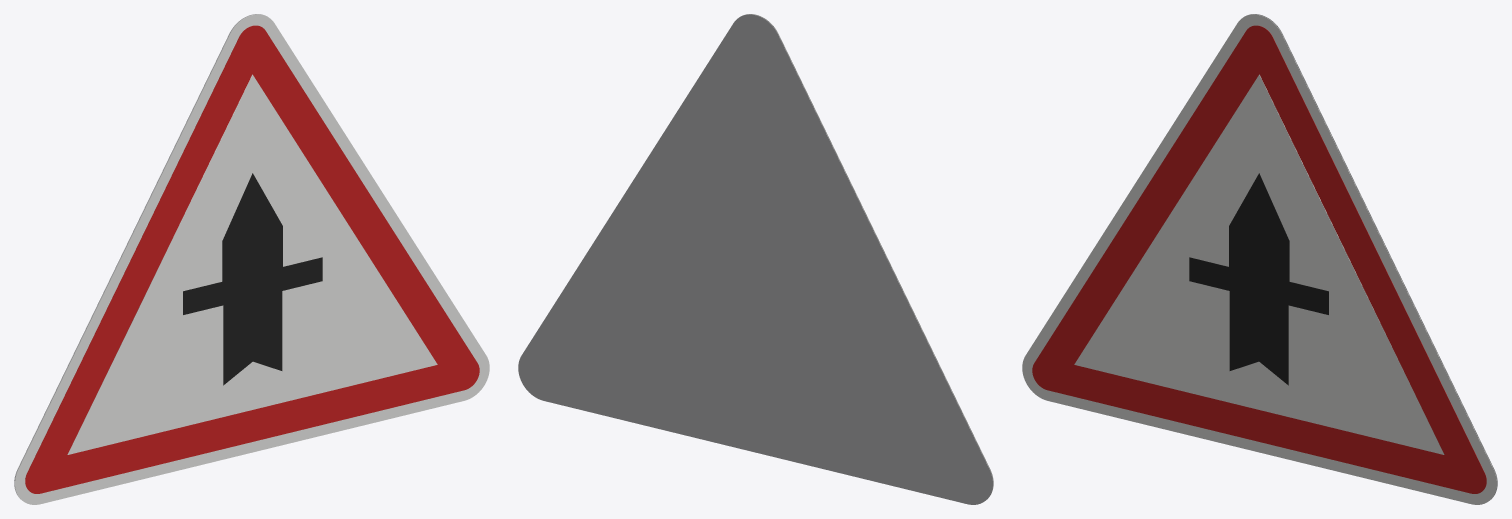
3 renders of one model, left to right at view 1: azimuth 30°, elevation 25°; view 2: azimuth 150°, elevation 25°; view 3: azimuth 330°, elevation 25°, orthographic.
Parts seen in each view (by area): view 1: AB2_p02, AB2_p01, AB2_p00, AB2_p03, AB2_dos; view 2: AB2_dos, AB2_p00; view 3: AB2_p02, AB2_p01, AB2_p00, AB2_p03, AB2_dos.
Part boxes in pixels (x1,y1,x2,y2): AB2_p02: (67, 74, 437, 454); AB2_p01: (25, 25, 479, 493); AB2_p00: (15, 14, 489, 504); AB2_p03: (183, 173, 322, 385); AB2_dos: (14, 14, 267, 499); AB2_dos: (518, 14, 992, 504); AB2_p00: (740, 14, 993, 499); AB2_p02: (1074, 74, 1444, 454); AB2_p01: (1032, 25, 1486, 493); AB2_p00: (1022, 14, 1496, 504); AB2_p03: (1189, 173, 1328, 385); AB2_dos: (1244, 14, 1497, 499).
Size of the model in its own units: 0.7 by 0.6162 by 0.0031.
